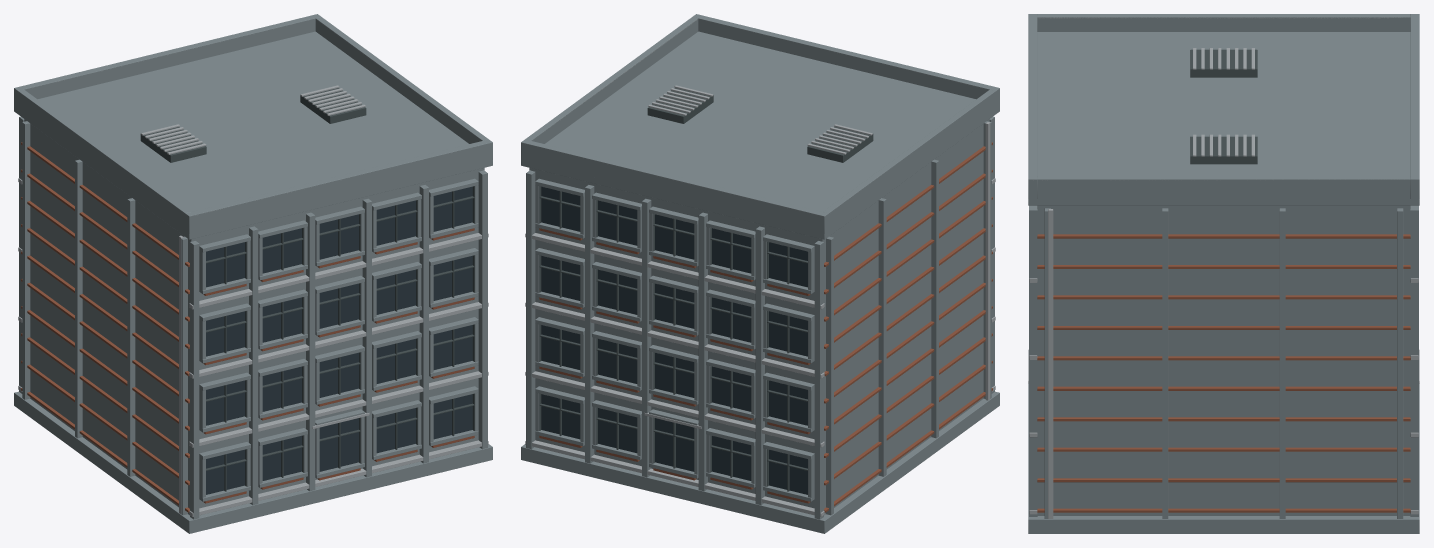
File: SM_StreetBlock_05.fbx
3 renders of one model, left to right at view 1: azimuth 30°, elevation 25°; view 2: azimuth 150°, elevation 25°; view 3: azimuth 270°, elevation 25°, orthographic. The views are drawn at different scales.
Visible parts, largest first — view 1: SM_StreetBlock_05; view 2: SM_StreetBlock_05; view 3: SM_StreetBlock_05.
Part boxes in pixels (left/top/right/bottom): SM_StreetBlock_05: left=14, top=14, right=492, bottom=533; SM_StreetBlock_05: left=521, top=14, right=999, bottom=533; SM_StreetBlock_05: left=1028, top=14, right=1419, bottom=533.
Size of the model in its own units: 100 by 100 by 100.
